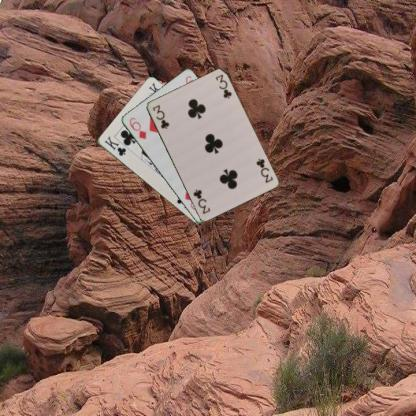3c: (150, 102, 171, 130), (253, 156, 274, 184)
6d: (126, 115, 148, 140)
Kc: (102, 134, 127, 157)
